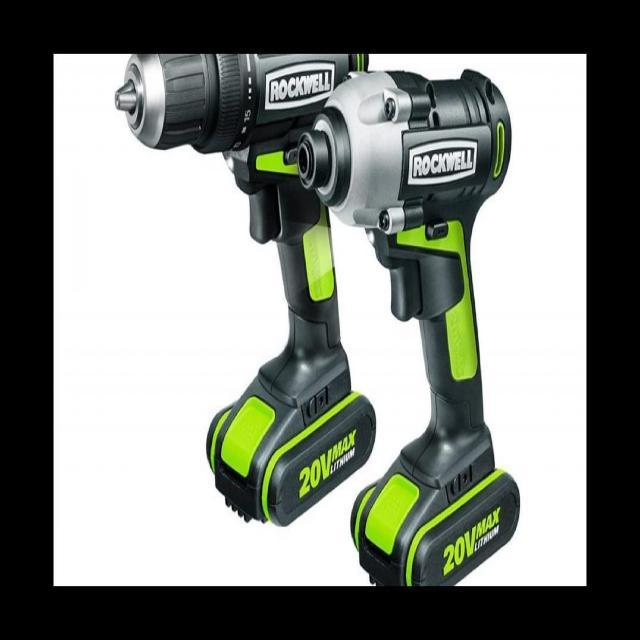drill: (114, 55, 377, 528), (298, 69, 520, 585)
